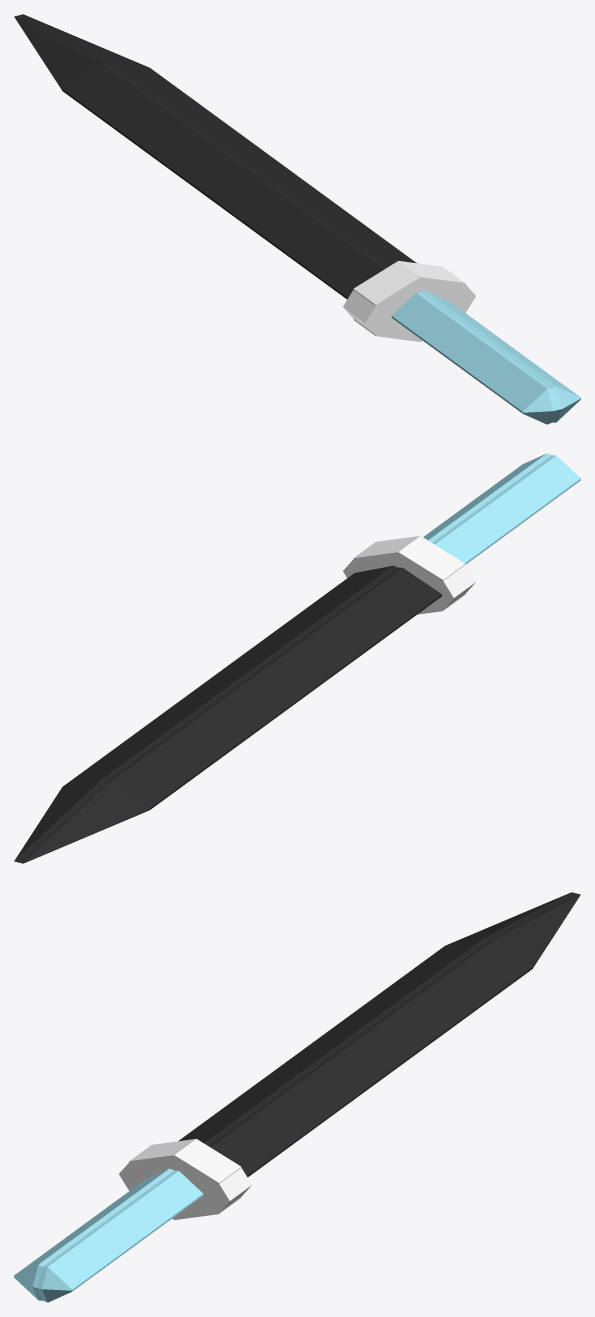
The model's file is Knife.fbx.
3 views of the same model, one above another, from view 1: azimuth 30°, elevation 25°; view 2: azimuth 150°, elevation 25°; view 3: azimuth 330°, elevation 25° (orthographic).
Visible parts, largest first — view 1: Knife; view 2: Knife; view 3: Knife.
Part boxes in pixels (box(x1,y1,x2,y2)): Knife: box(14, 14, 580, 424); Knife: box(14, 453, 580, 863); Knife: box(14, 892, 580, 1302).
Bounding box in the file's own units: 7.55 × 4.22 × 63.44.
